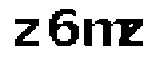6: (45, 6, 79, 48)
m: (81, 14, 129, 50)
z: (8, 15, 42, 50), (119, 17, 146, 48)
